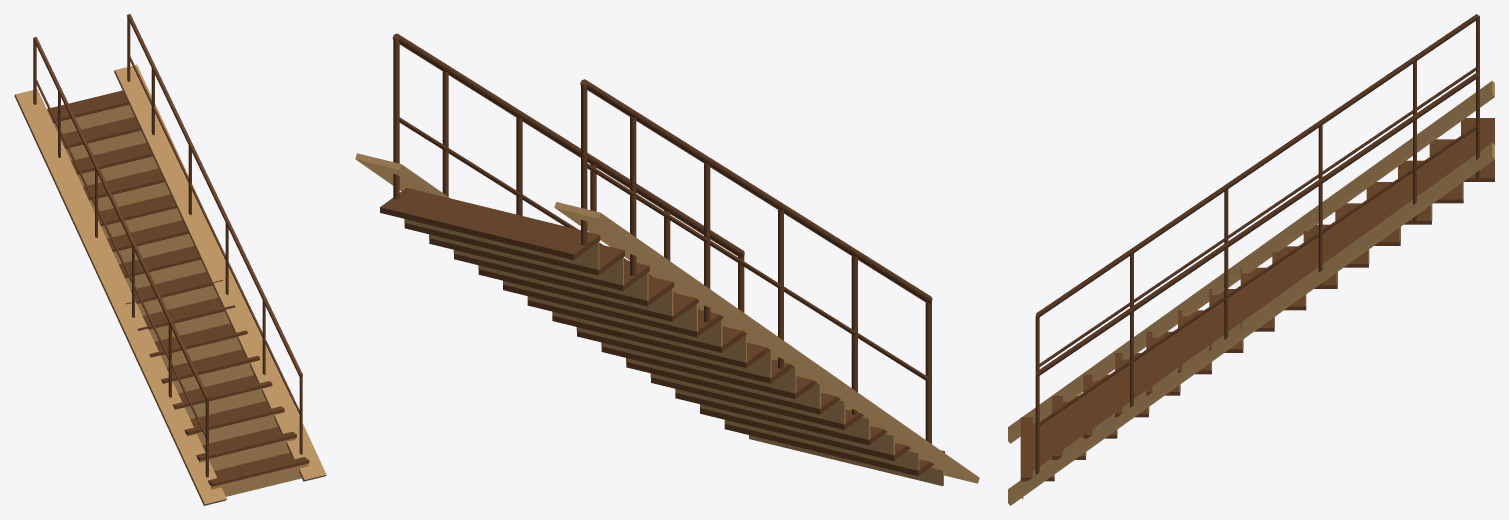
File: circulation.stair.timber_1200.glb
3 views of the same model, side by side, from view 1: azimuth 30°, elevation 25°; view 2: azimuth 150°, elevation 25°; view 3: azimuth 270°, elevation 25° (orthographic). The views are drawn at different scales.
Parts seen in each view (by area): view 1: flight__softwood, flight__hardwood, balustrade__hardwood; view 2: flight__softwood, flight__hardwood, balustrade__hardwood; view 3: flight__hardwood, flight__softwood, balustrade__hardwood.
Part boxes in pixels (x1=…): flight__softwood: x1=14, y1=64, x2=326, y2=505; flight__hardwood: x1=47, y1=90, x2=309, y2=486; balustrade__hardwood: x1=33, y1=14, x2=302, y2=477; flight__softwood: x1=355, y1=153, x2=979, y2=486; flight__hardwood: x1=380, y1=188, x2=944, y2=476; balustrade__hardwood: x1=392, y1=33, x2=932, y2=461; flight__hardwood: x1=1020, y1=118, x2=1494, y2=481; flight__softwood: x1=1008, y1=80, x2=1494, y2=505; balustrade__hardwood: x1=1035, y1=14, x2=1479, y2=474.
Size of the model in its own units: 1.43 by 3.73 by 3.87.
